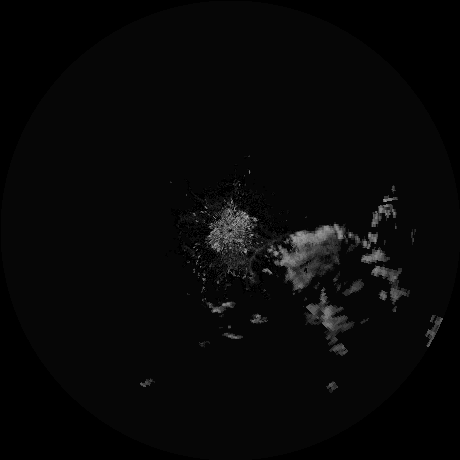frontgust: (247, 239, 285, 276)
